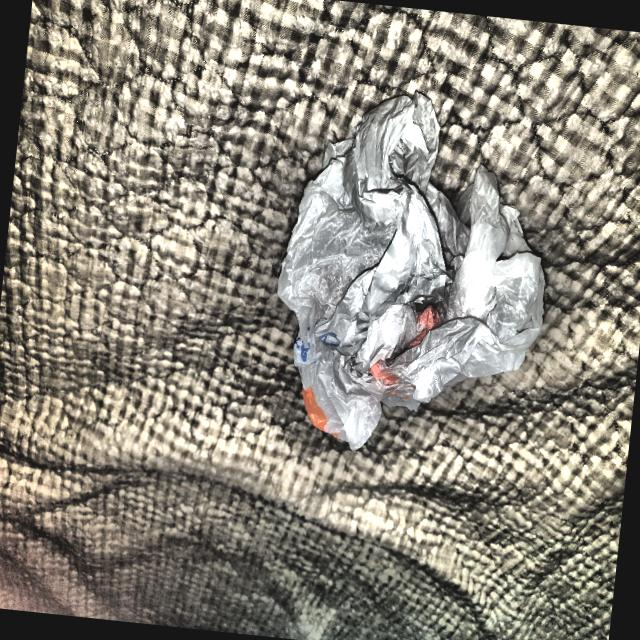plastic bag: (243, 67, 576, 476)
